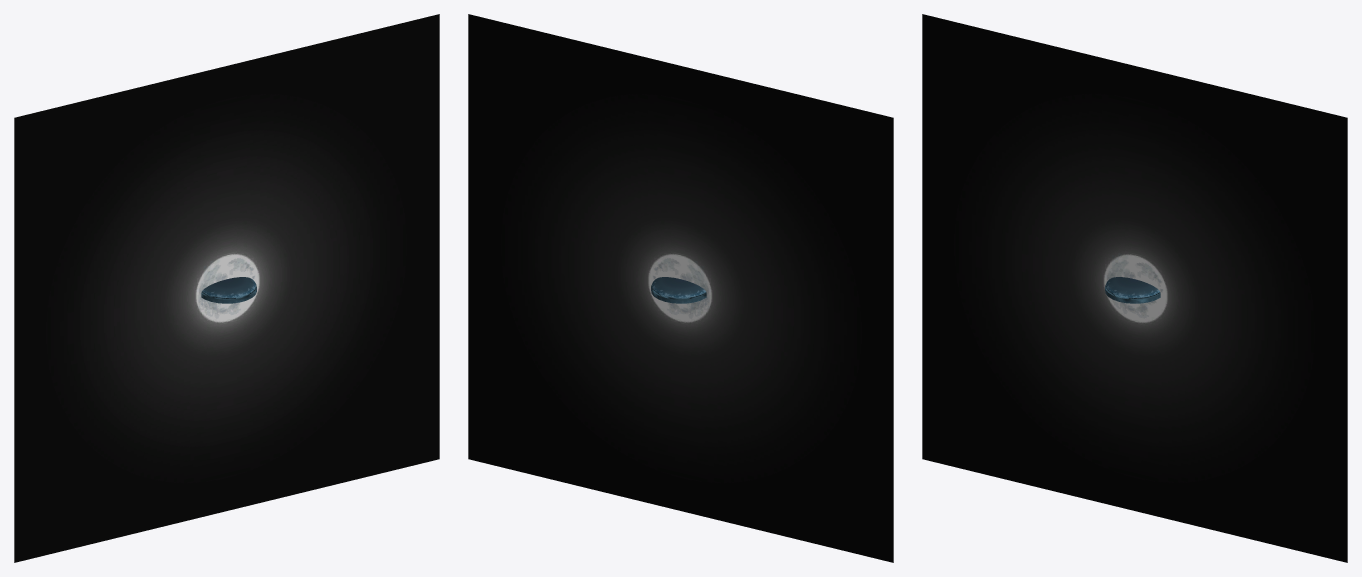
Rendered from stage_si01a.glb.
3 renders of one model, left to right at view 1: azimuth 30°, elevation 25°; view 2: azimuth 150°, elevation 25°; view 3: azimuth 330°, elevation 25°, orthographic.
Parts seen in each view (by area): view 1: si01a_efe200, si01a_sky01; view 2: si01a_efe200, si01a_sky01; view 3: si01a_efe200, si01a_sky01.
Boxes of the visible parts, <box> form: si01a_efe200: <box>14,14,439,562</box>; si01a_sky01: <box>201,277,256,303</box>; si01a_efe200: <box>468,14,893,562</box>; si01a_sky01: <box>651,277,706,303</box>; si01a_efe200: <box>922,14,1347,562</box>; si01a_sky01: <box>1105,277,1160,303</box>.
Bounding box in the file's own units: 128868 × 128868 × 15704.
Materials: 97 (97 with a texture image).
